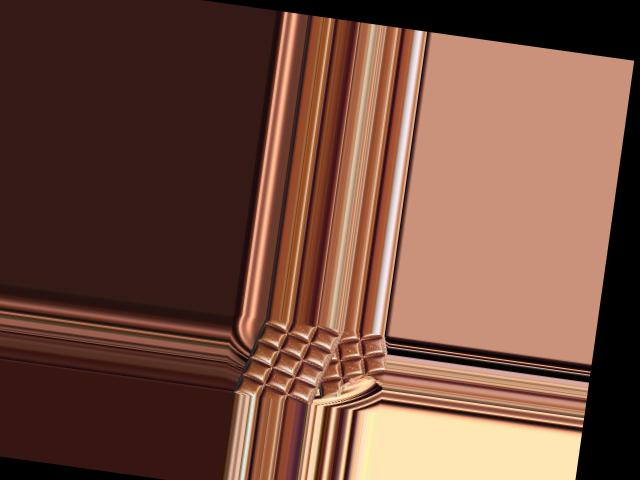chocolate: (232, 314, 345, 406)
